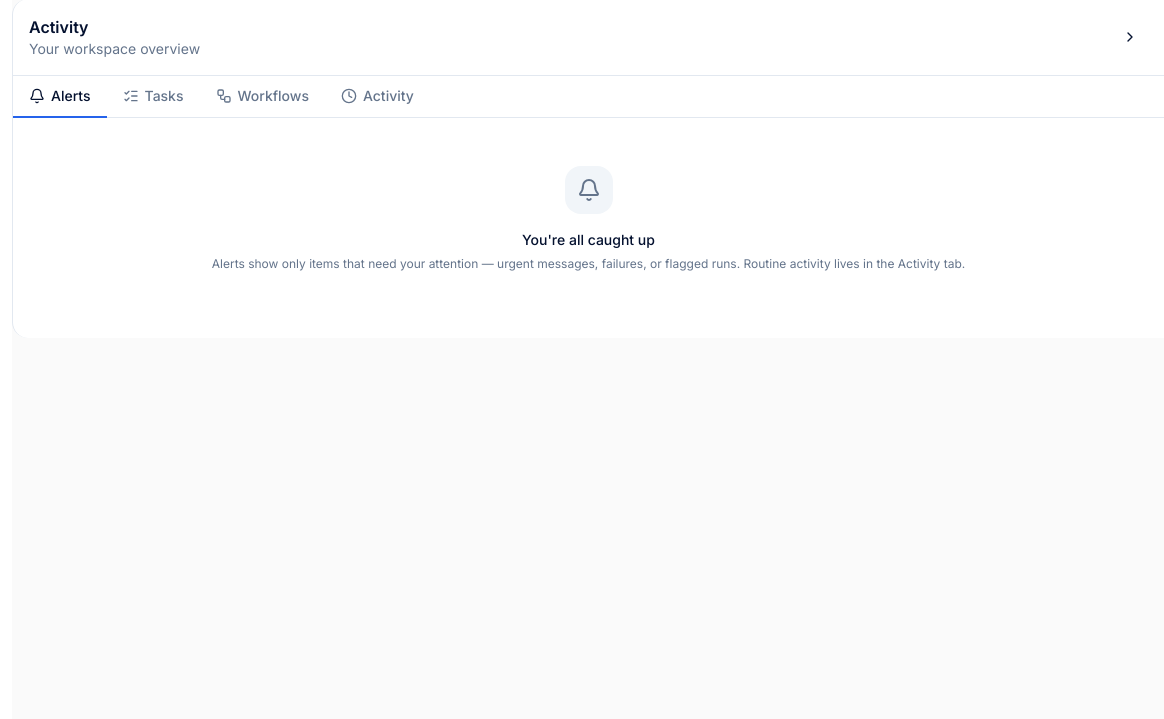
Test: ContextPanel › shows latest workflow run metadata, output, error, and trace id in details
The width and height of the screenshot is (1164, 719).
Click the button "Workflows".
click(262, 97)  # box [200,76,325,118]
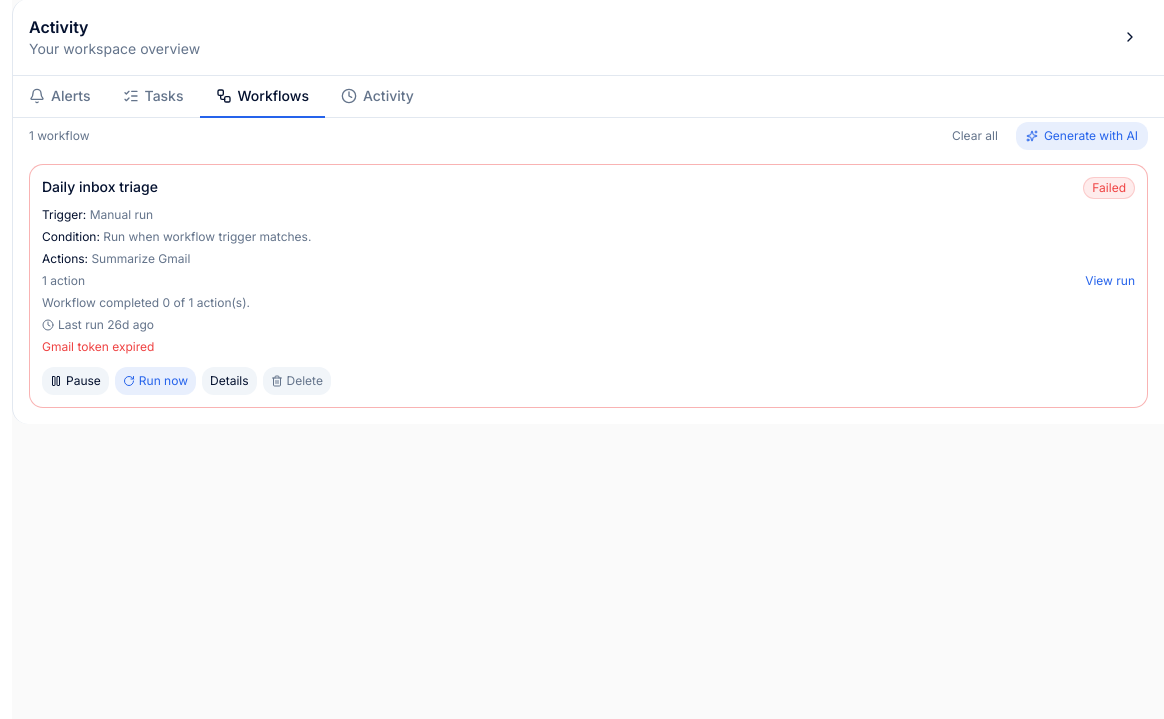
Click the button "Details".
click(229, 381)  # box [202,367,256,395]
(page scrolled)
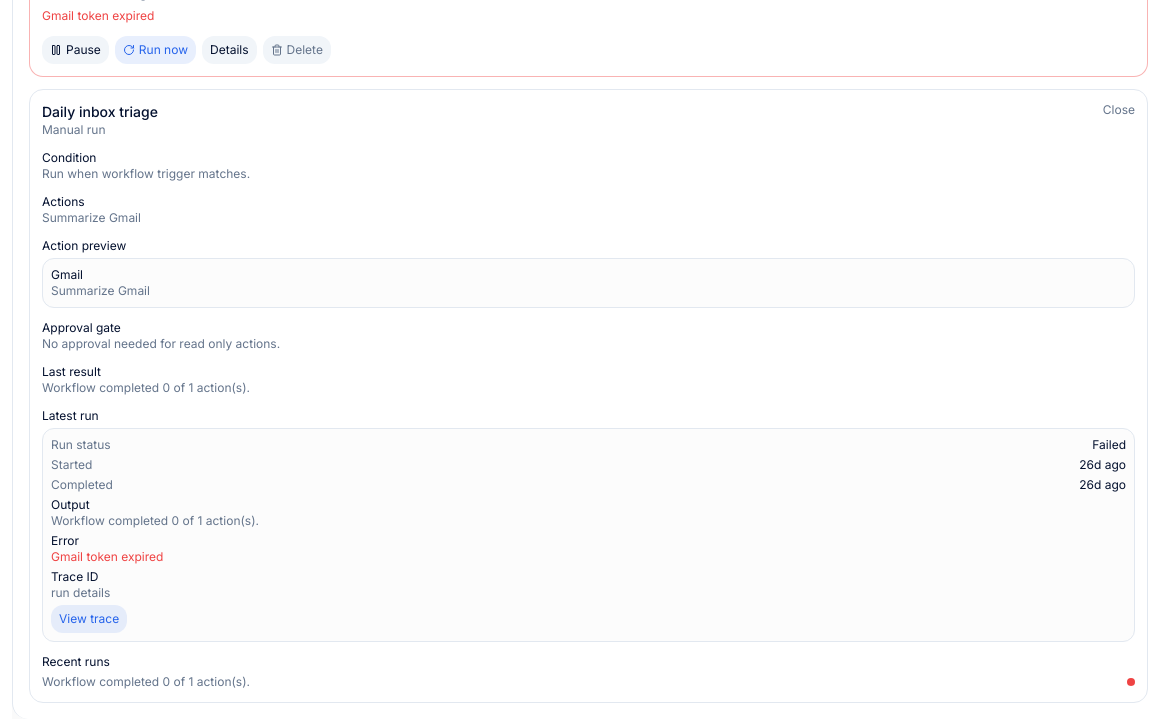
Now the text "Latest run" is shown, box [42,408,99,423]
Now the text "Run status" is shown, box [51,437,111,453]
Now the text "Started" is shown, box [51,457,92,473]
